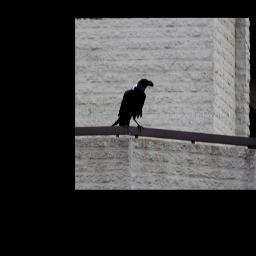Crow: (110, 77, 155, 137)
